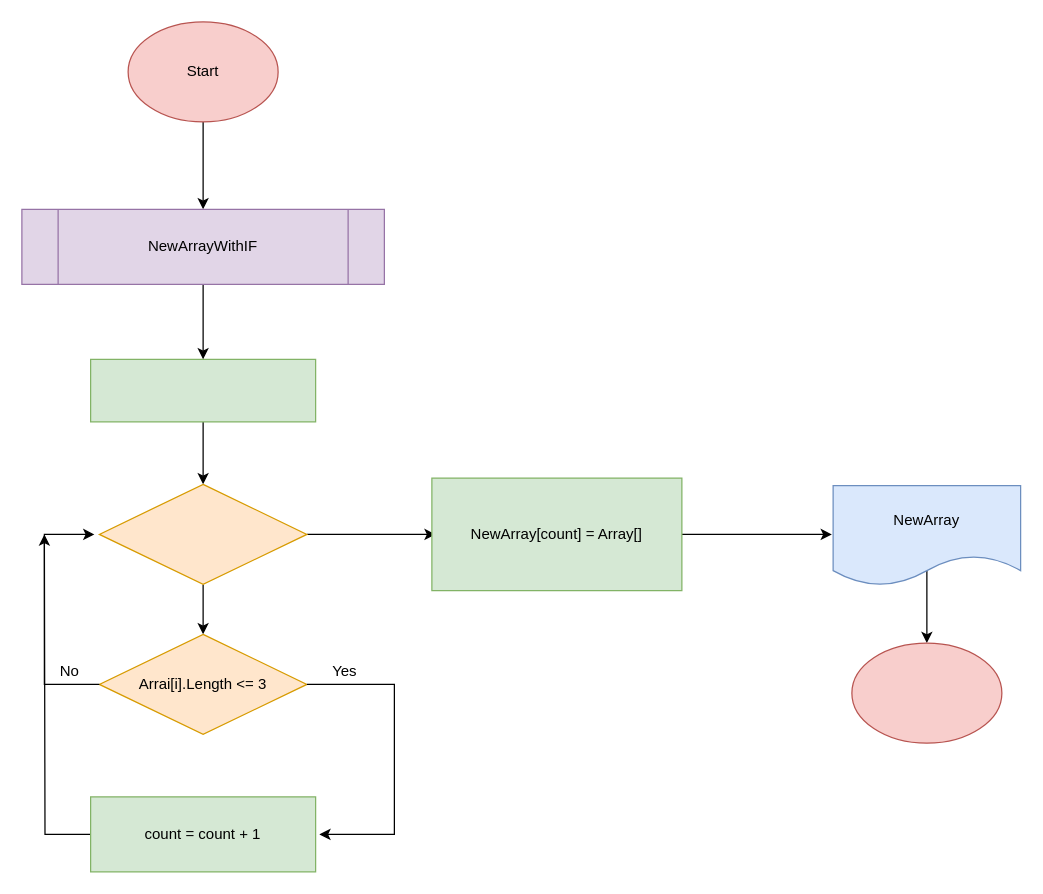
The diagram is 1043 pixels wide and 894 high, and some of its shapes have lost their labels. The centre of each missing label's shape, as x and y in pixels:
"Array NewArray count = 0" goes at point (202, 390).
"End" goes at point (926, 692).
"i=0, i<=Array.Length, i++" goes at point (202, 533).
